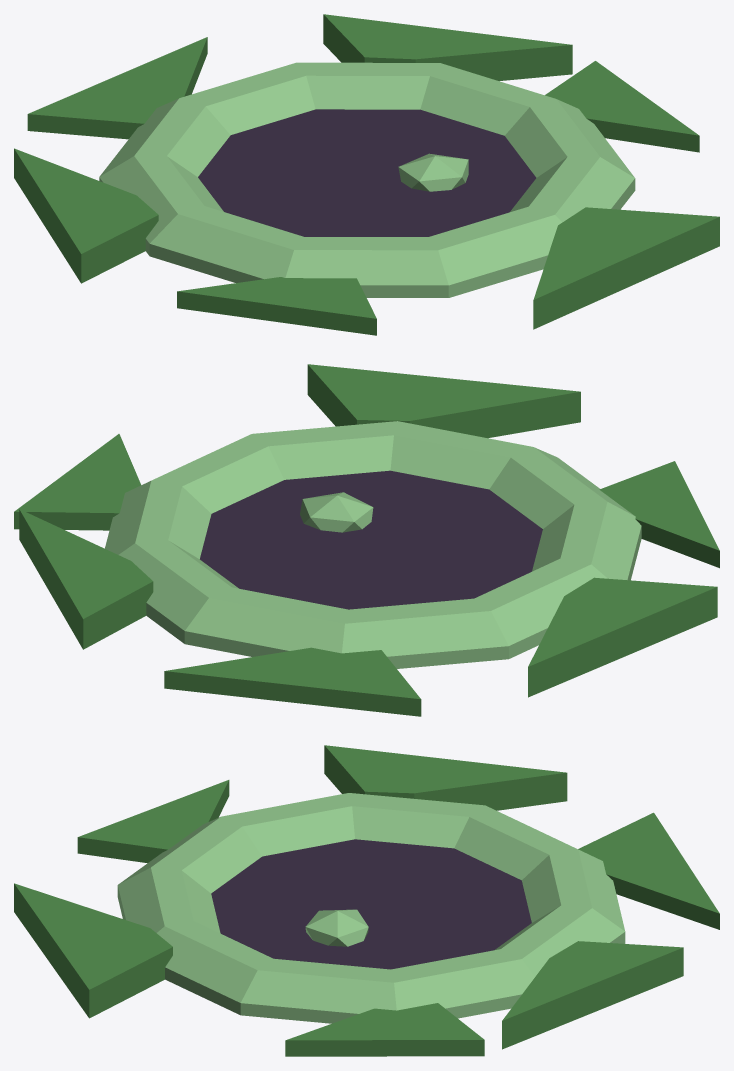
Rendered from crater-m-forest.glb.
3 views of the same model, one above another, from view 1: azimuth 30°, elevation 25°; view 2: azimuth 150°, elevation 25°; view 3: azimuth 270°, elevation 25° (orthographic). The views are drawn at different scales.
Visible parts, largest first — view 1: crater-m-forest; view 2: crater-m-forest; view 3: crater-m-forest.
Part boxes in pixels (x1=…): crater-m-forest: x1=14, y1=14, x2=719, y2=335; crater-m-forest: x1=14, y1=364, x2=719, y2=716; crater-m-forest: x1=14, y1=745, x2=719, y2=1056.
Size of the model in its own units: 1.48 by 0.1032 by 1.56.
